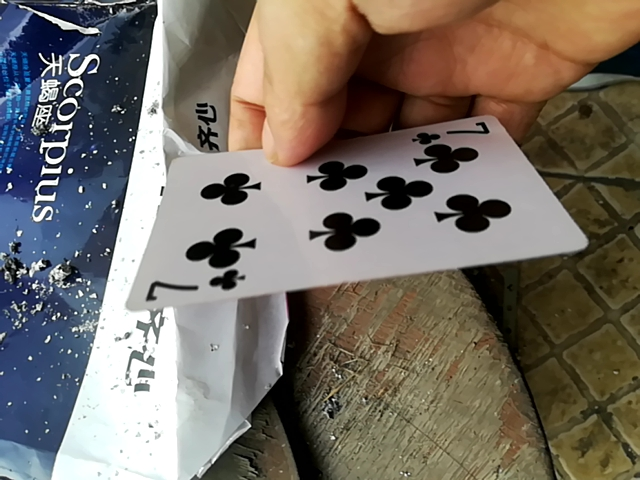mh 7: (114, 119, 599, 301)
